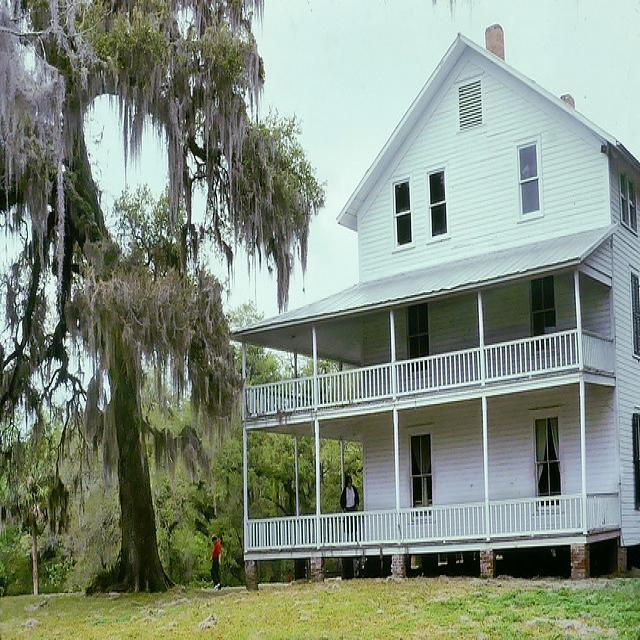Normal_building: (226, 24, 640, 589)
